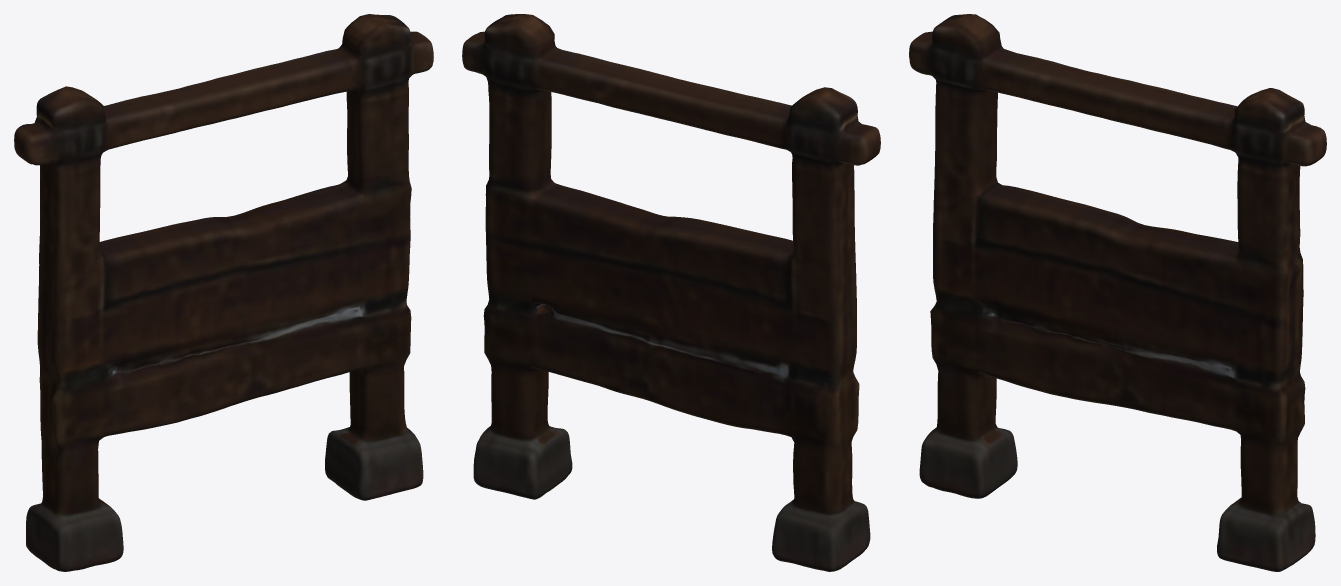
The model's file is 1a1bff901658_low_poly_wooden_emp.fbx.
3 views of the same model, side by side, from view 1: azimuth 30°, elevation 25°; view 2: azimuth 150°, elevation 25°; view 3: azimuth 330°, elevation 25° (orthographic).
Parts seen in each view (by area): view 1: mesh; view 2: mesh; view 3: mesh.
Boxes of the visible parts, x1,y1,x2,y2 form: mesh: (14, 14, 433, 571); mesh: (462, 14, 880, 571); mesh: (909, 14, 1326, 571).
Size of the model in its own units: 92.09 by 99.9 by 14.99.
